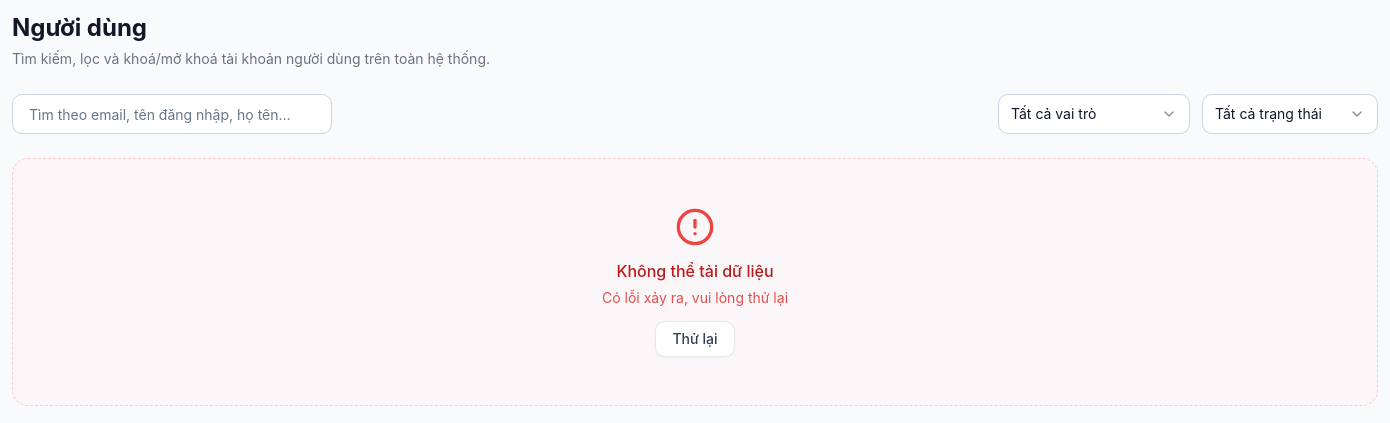
Test case: /admin/users khi API trả 500 › bấm Thử lại gọi API lần nữa và hiện dữ liệu khi API phục hồi
Expected: the text "Không thể tải dữ liệu" is shown, [616,261,774,281]
Click the button "Thử lại" at [695, 339], box [655,321,735,357]
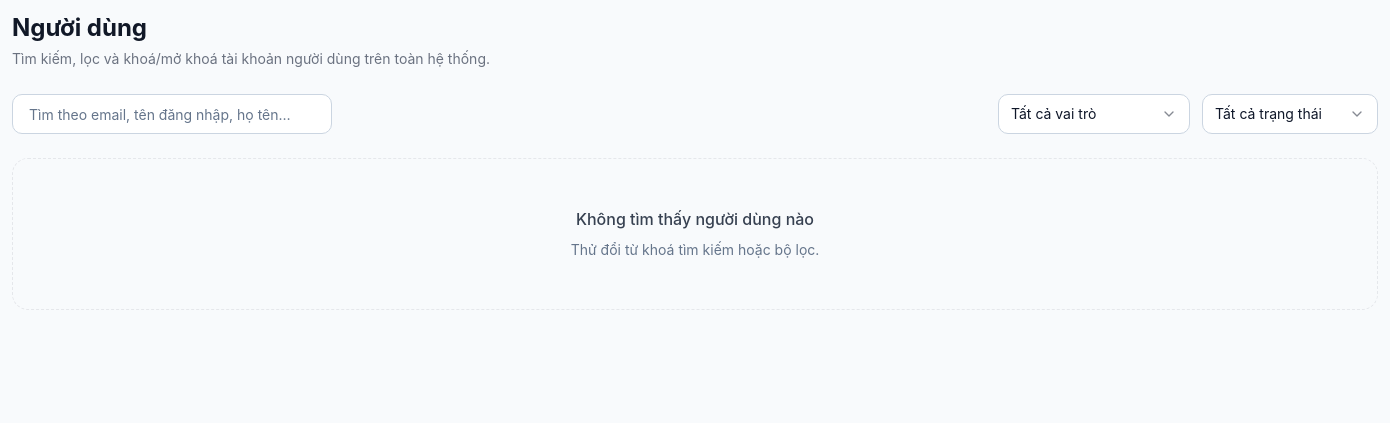
Expected: the text "Không thể tải dữ liệu" is gone
